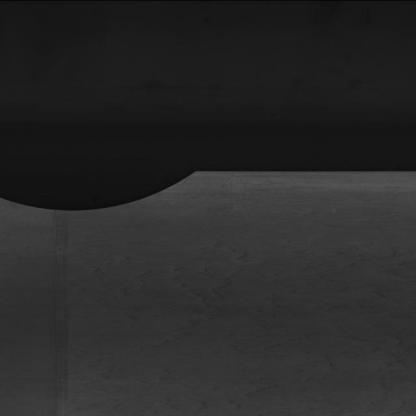crescent_gap: (1, 162, 215, 218)
welding_line: (52, 196, 80, 416)
